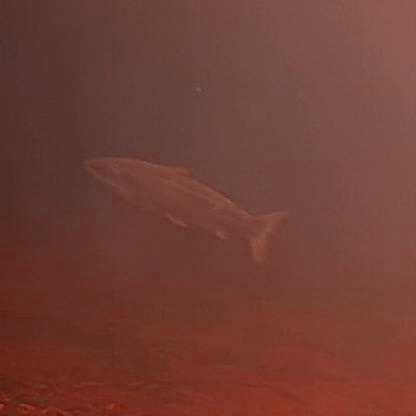salmon: (78, 149, 291, 265)
